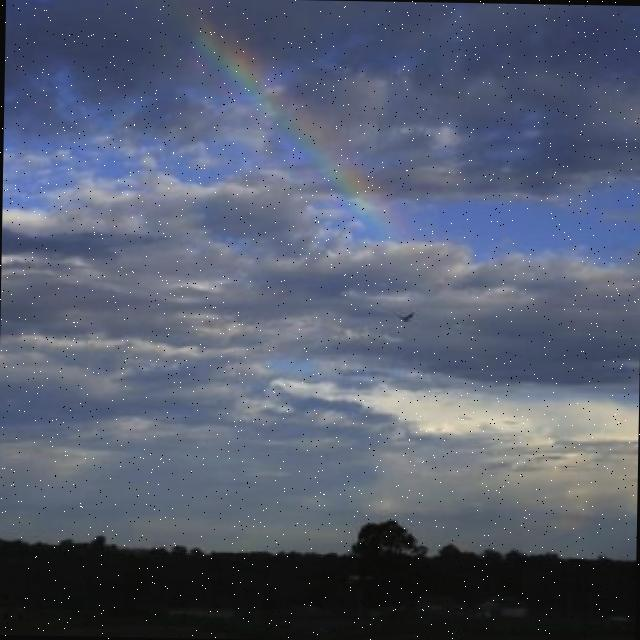Ac: (1, 1, 640, 466)
